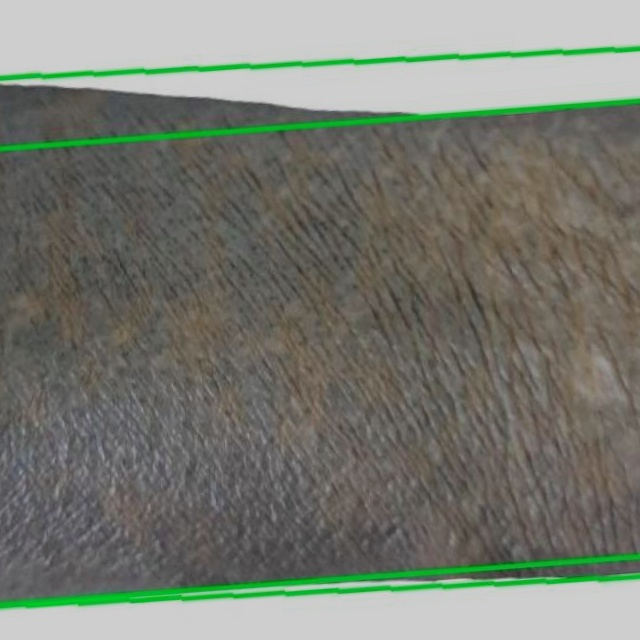Eczema: (0, 48, 639, 607)
